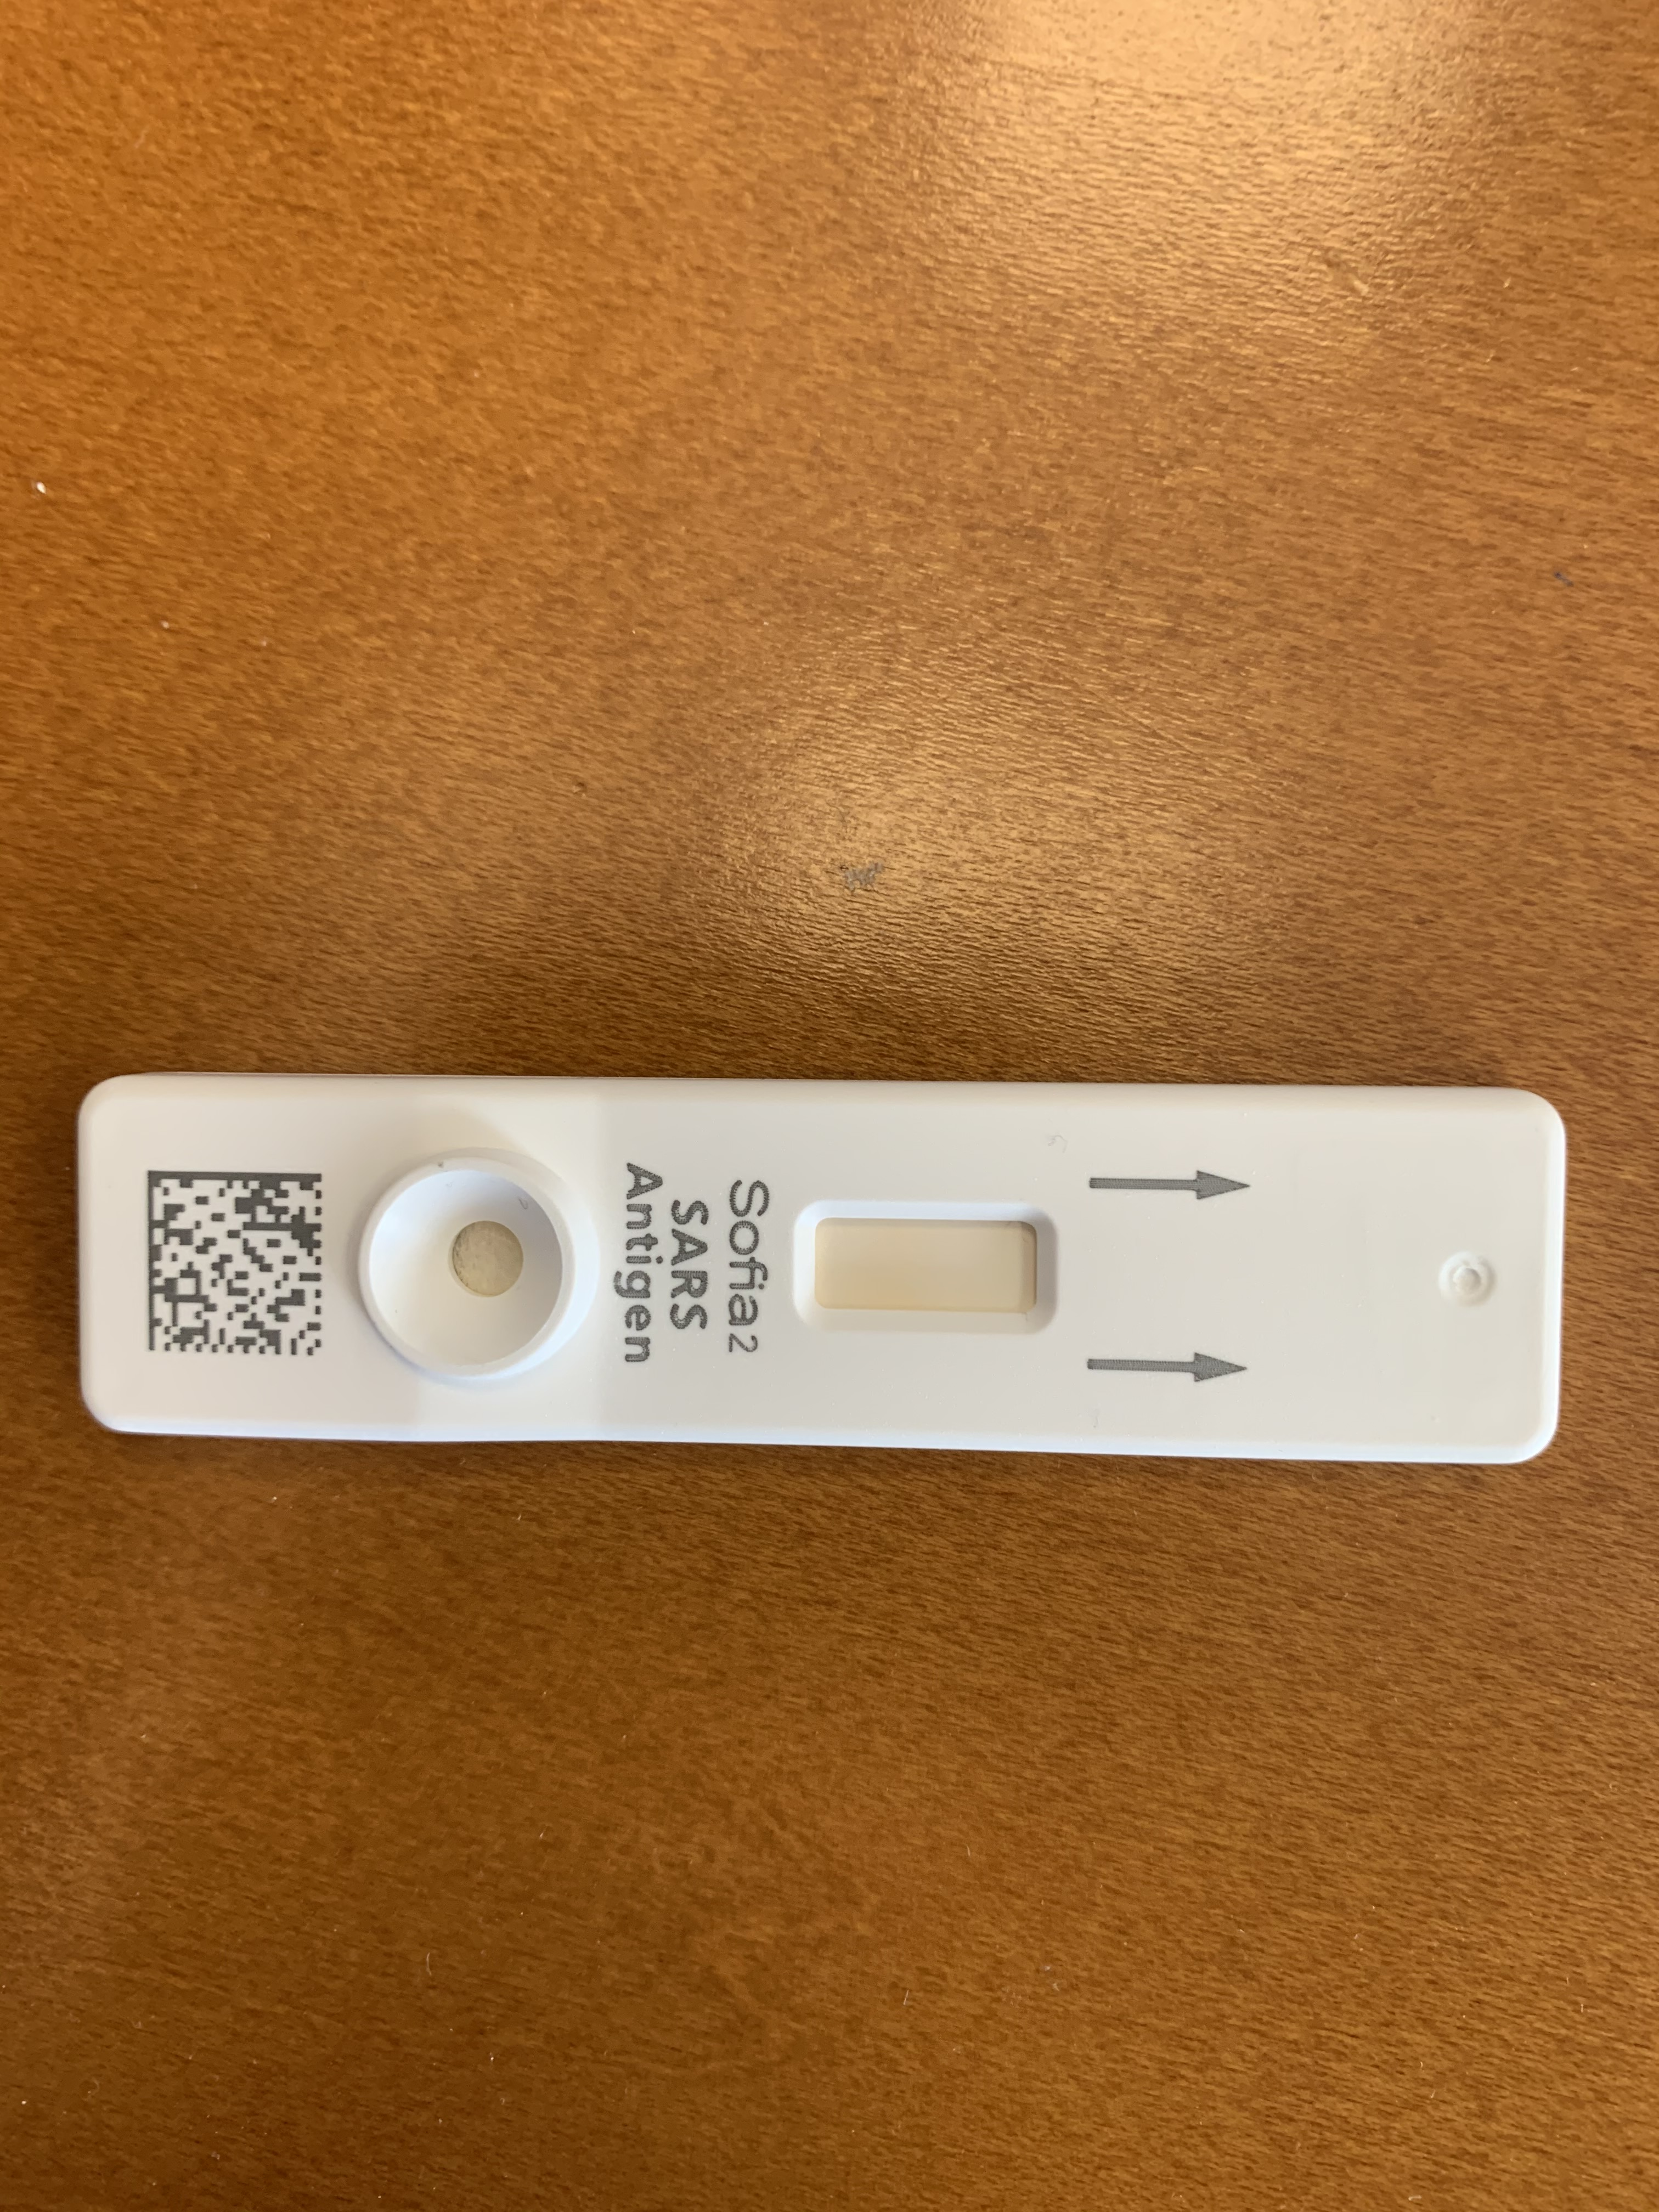quidel: (71, 1066, 1570, 1470)
